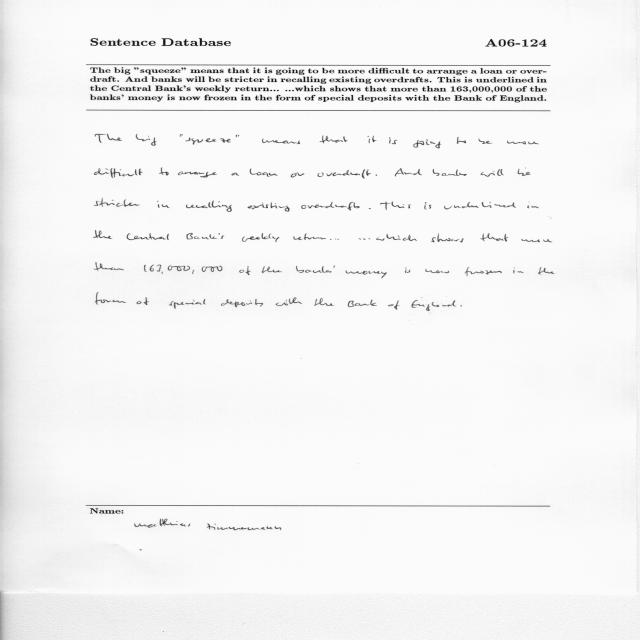word: (144, 265, 222, 275), (444, 202, 516, 210), (318, 169, 371, 179), (186, 201, 232, 212), (94, 168, 143, 178), (412, 300, 456, 311), (301, 202, 360, 210), (248, 202, 290, 212), (94, 198, 140, 207), (96, 292, 126, 305), (169, 299, 205, 309), (242, 233, 280, 242), (221, 299, 263, 307), (465, 267, 502, 276), (346, 271, 387, 279), (185, 138, 231, 145), (296, 265, 335, 273), (126, 233, 169, 240), (431, 234, 464, 243), (377, 234, 418, 241), (413, 139, 441, 149), (380, 202, 411, 211), (136, 134, 157, 146), (320, 135, 348, 144), (250, 168, 278, 177), (481, 233, 509, 242), (95, 134, 122, 143), (433, 169, 467, 176), (178, 172, 217, 178), (276, 297, 302, 306), (95, 263, 124, 271), (348, 300, 377, 308), (293, 233, 326, 240), (187, 233, 225, 239), (395, 168, 422, 176), (262, 139, 300, 144), (481, 169, 504, 177), (94, 230, 112, 239), (314, 298, 334, 306), (262, 267, 282, 274), (538, 267, 555, 275), (388, 300, 399, 310), (239, 266, 251, 275), (518, 168, 531, 176), (507, 141, 539, 144), (425, 269, 449, 273), (137, 297, 149, 305), (522, 239, 553, 242), (157, 201, 170, 208), (478, 138, 492, 144), (527, 202, 539, 209), (367, 136, 377, 143), (456, 137, 466, 144), (159, 168, 169, 175), (513, 268, 524, 274), (291, 173, 304, 178), (389, 138, 397, 145), (425, 202, 432, 209), (405, 267, 410, 273), (231, 173, 239, 176), (359, 238, 370, 240), (180, 134, 183, 137), (330, 239, 339, 240), (236, 135, 239, 137), (460, 305, 462, 307), (376, 174, 377, 176), (369, 208, 371, 209)
